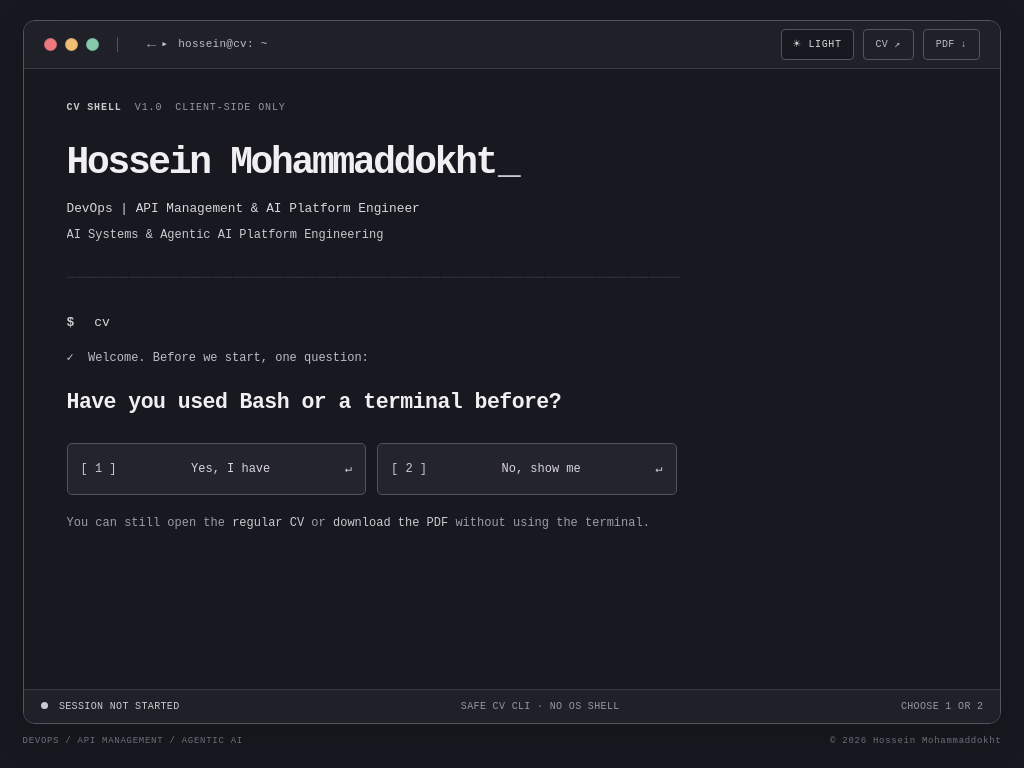
Test: Terminal-first CV interaction › keeps cv clear and normal CV/PDF links accessible
Check: the link to "/resume.pdf" is shown, box [923,29,980,60]
Click the button "[ 2 ] No, show me ↵" at point(527, 469), box [377,443,676,495]
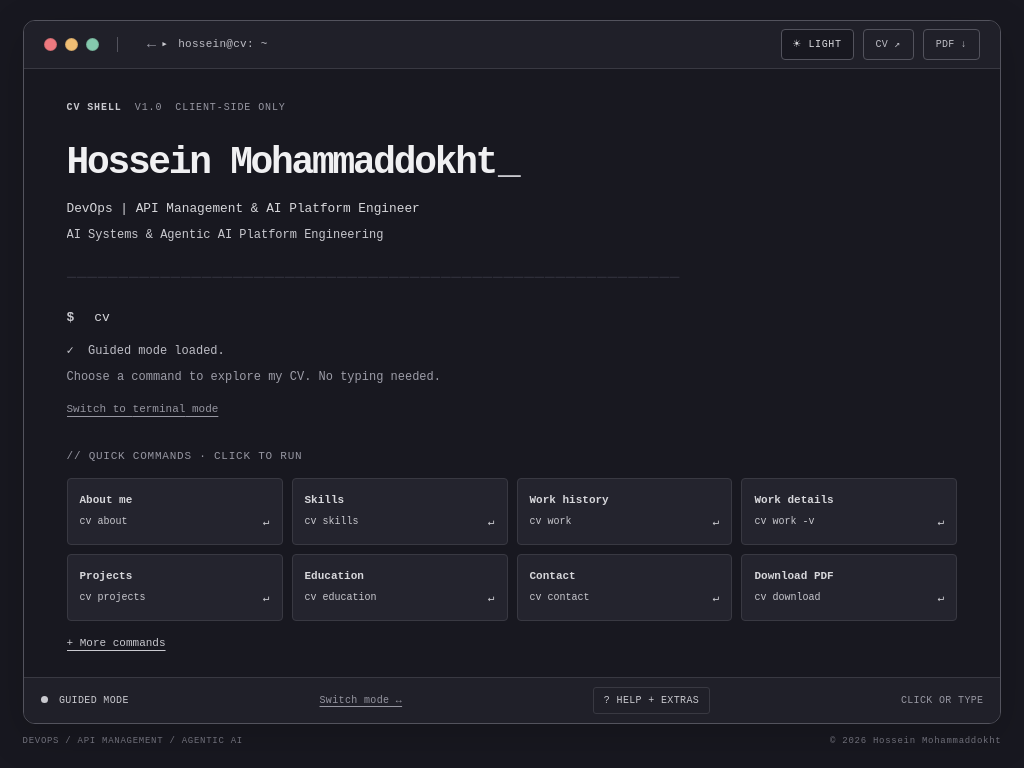
Click the button "Work history cv work ↵" at point(624, 511), box [516,478,732,545]
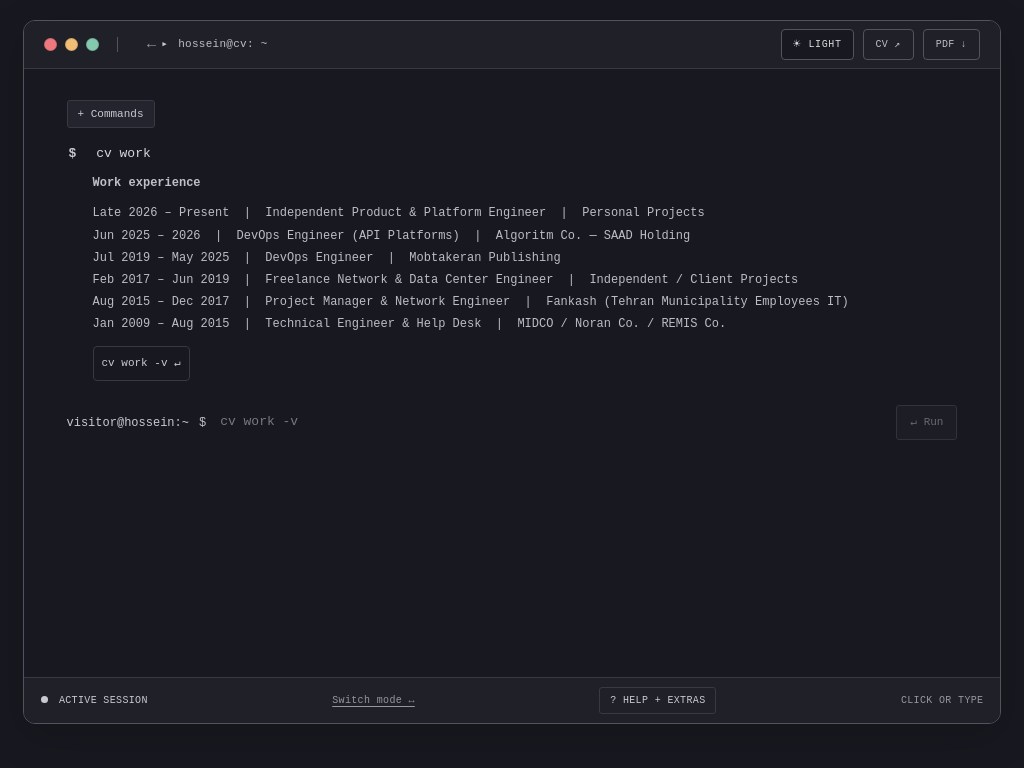
Click the button "+ Commands" at point(110, 114), box [66,100,154,128]
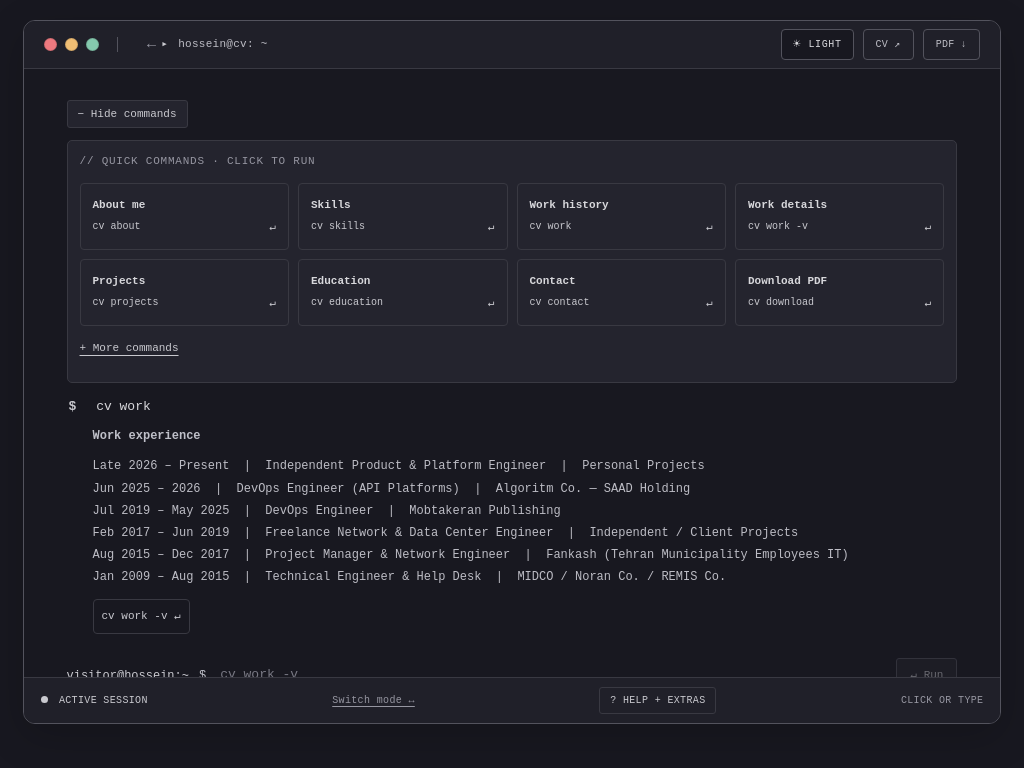
Click the button "+ More commands" at point(129, 348), box [80,326,178,370]
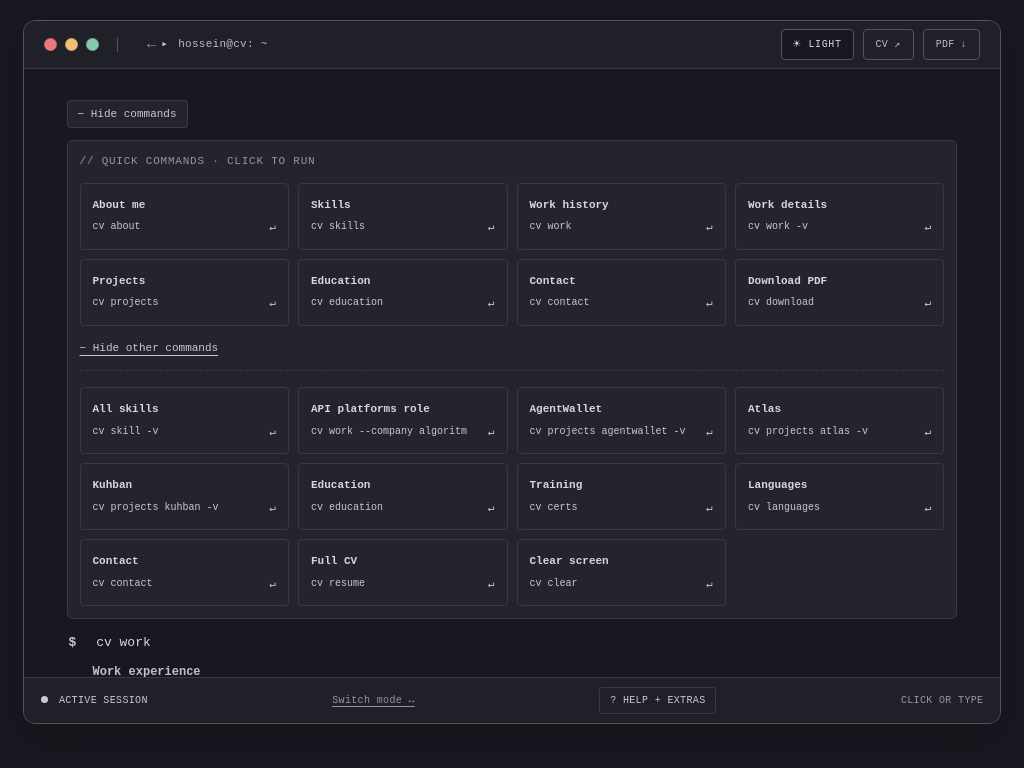
Click the button "Clear screen cv clear ↵" at point(621, 573), box [516,539,726,606]
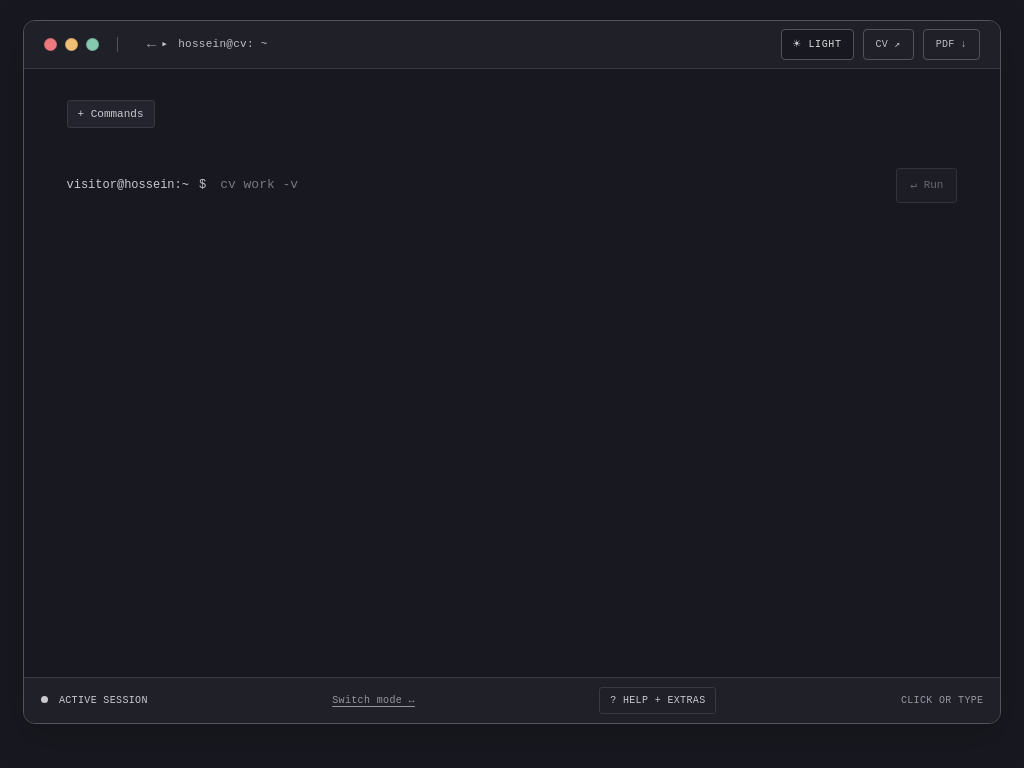
Check: no elements with class "cvcli-turn" are shown
